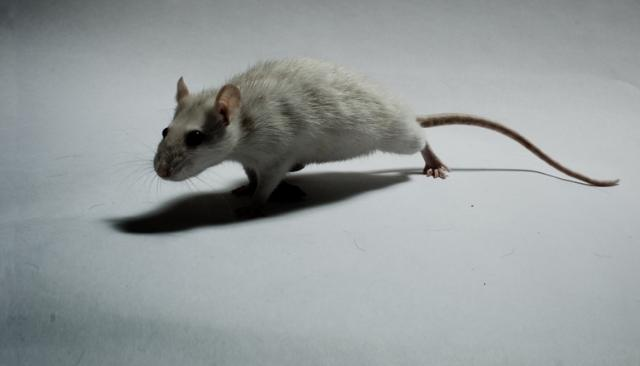rat: (125, 38, 630, 212)
